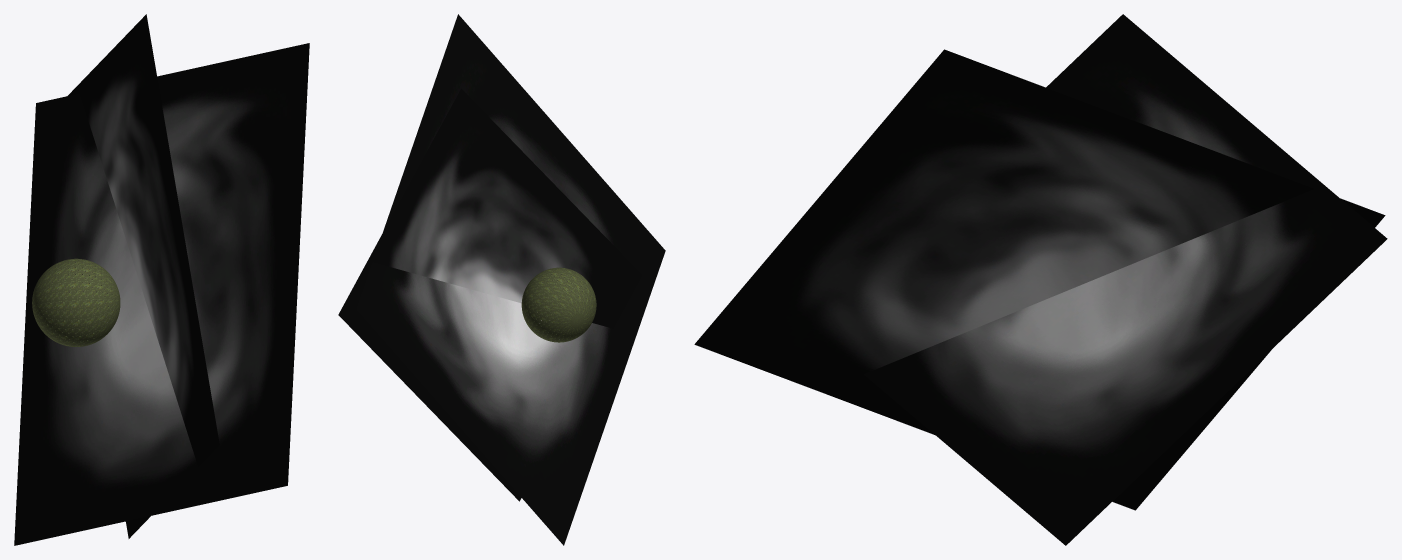
The model's file is Set 1 - Space.fbx.
3 views of the same model, side by side, from view 1: azimuth 30°, elevation 25°; view 2: azimuth 150°, elevation 25°; view 3: azimuth 270°, elevation 25° (orthographic). The views are drawn at different scales.
Visible parts, largest first — view 1: CutscenePlanetBackdrop (×2), CutscenePlanet; view 2: CutscenePlanetBackdrop (×2), CutscenePlanet; view 3: CutscenePlanetBackdrop (×2).
Boxes of the visible parts, left/top/right/bottom form: CutscenePlanetBackdrop (×2): left=14, top=14, right=309, bottom=545; CutscenePlanet: left=32, top=258, right=120, bottom=346; CutscenePlanetBackdrop (×2): left=338, top=14, right=665, bottom=545; CutscenePlanet: left=521, top=267, right=596, bottom=342; CutscenePlanetBackdrop (×2): left=694, top=14, right=1387, bottom=545.
Size of the model in its own units: 3497 by 8010 by 8738.
Materials: 2 (2 with a texture image).
